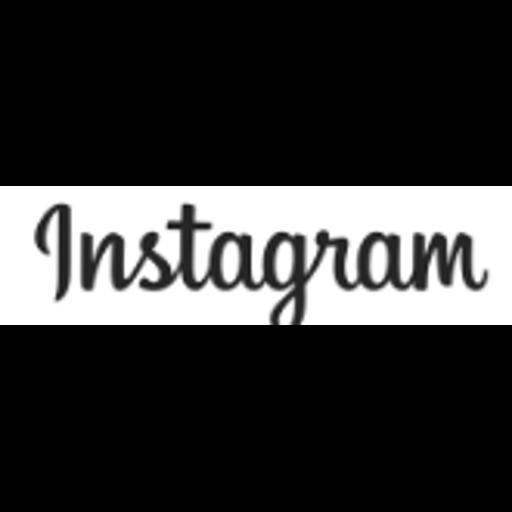Instagram: (0, 186, 512, 325)
